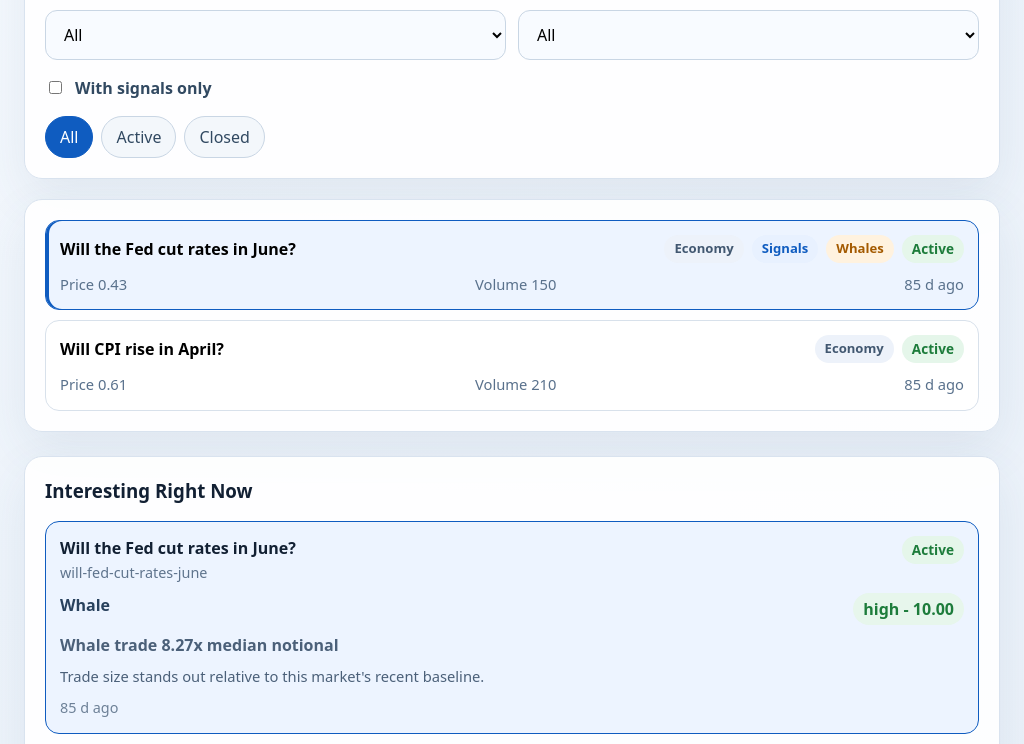
Test case: App › clicking a signal selects that market and updates the detail panel
The width and height of the screenshot is (1024, 744).
(page scrolled)
What coordinates should you click on to do the following:
click the button "Will CPI rise in April?"
I would click on:
 (142, 349)
Its box is 45,320 -> 979,410.
(page scrolled)
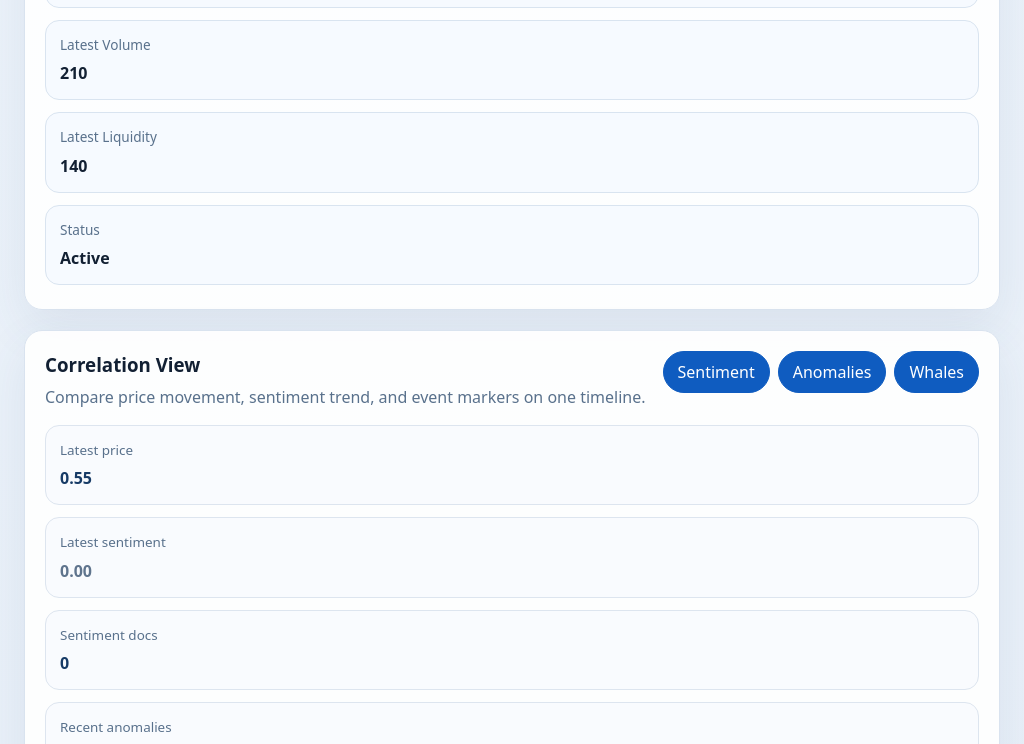
Result: the heading "Correlation View" is shown at 45,352 -> 200,377
